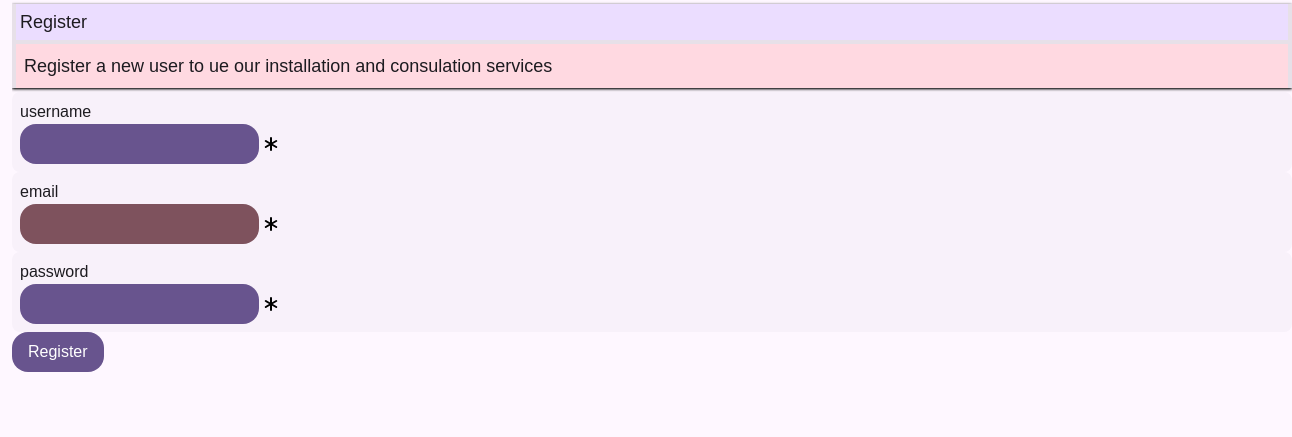
RegisterPage › shows validation errors for invalid input
The width and height of the screenshot is (1292, 437).
Type "notanemail" into the field labelled "email" at (140, 224), box [20,204,259,244]
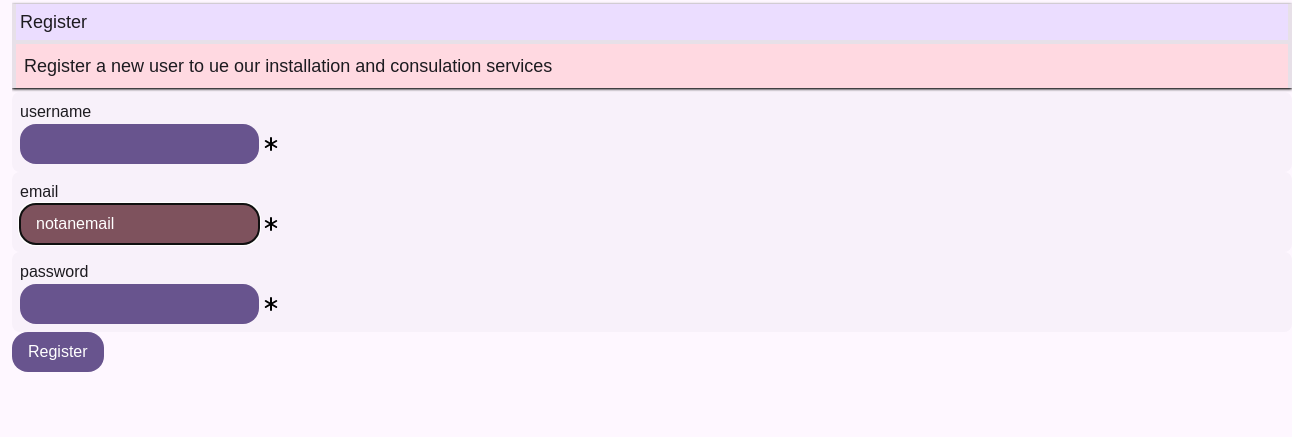
Type "123" into the field labelled "password" at (140, 304), box [20,284,259,324]
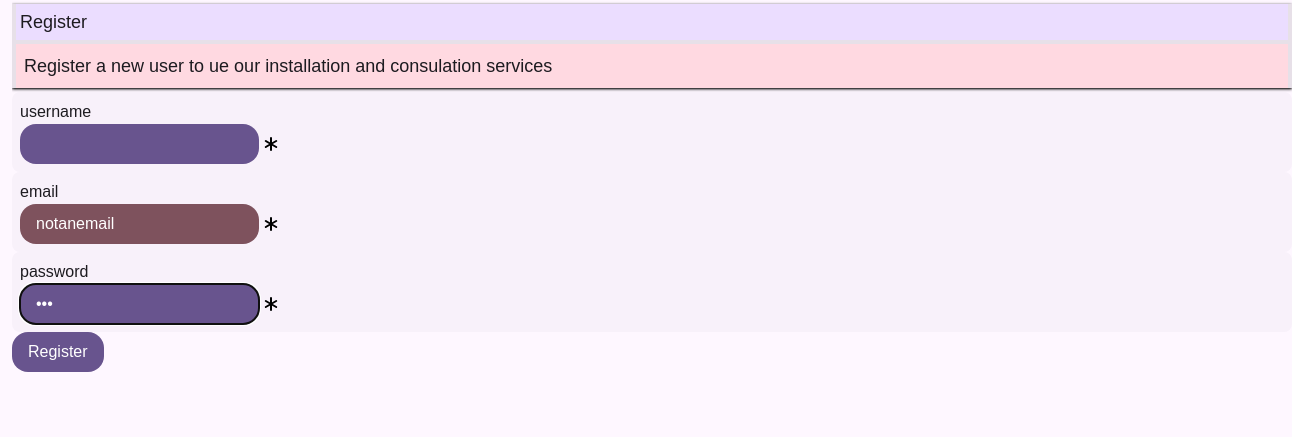
Click the button "Register" at (58, 352), box [12,332,104,372]
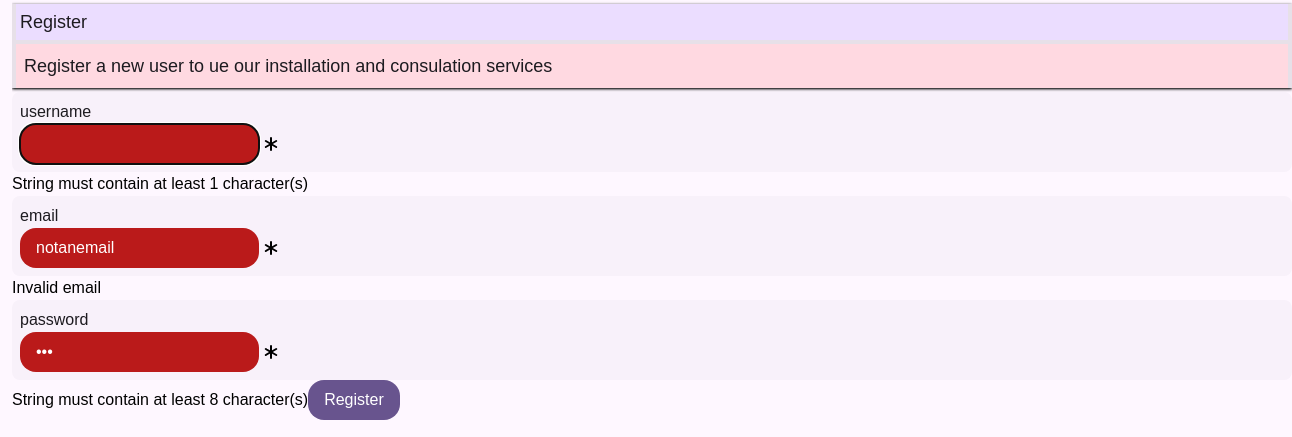
Expected: the text "Invalid email" is shown, [12,279,101,296]
Expected: the text "String must contain at least 8 character(s)" is shown, [12,391,308,408]
Expected: the text "String must contain at least 1 character(s)" is shown, [12,175,308,192]
